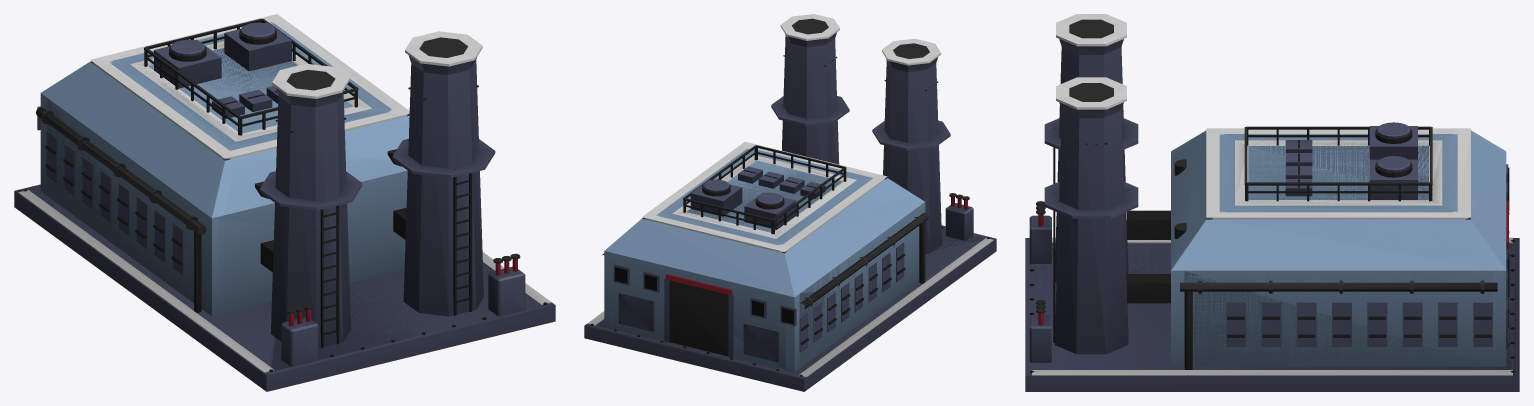
File: veyran_power_plant.glb
3 views of the same model, side by side, from view 1: azimuth 30°, elevation 25°; view 2: azimuth 150°, elevation 25°; view 3: azimuth 270°, elevation 25° (orthographic). The views are drawn at different scales.
Parts seen in each view (by area): view 1: body (×3); view 2: body (×3); view 3: body (×3).
Boxes of the visible parts, <box> form: body (×3): <box>14,14,555,391</box>; body (×3): <box>584,14,996,391</box>; body (×3): <box>1025,14,1519,391</box>.
Bounding box in the file's own units: 7.4 × 6.56 × 11.2.
